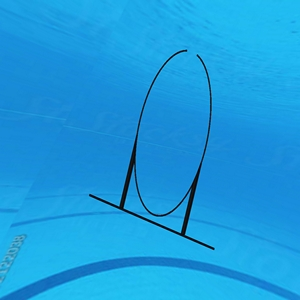circle: (87, 49, 220, 254)
